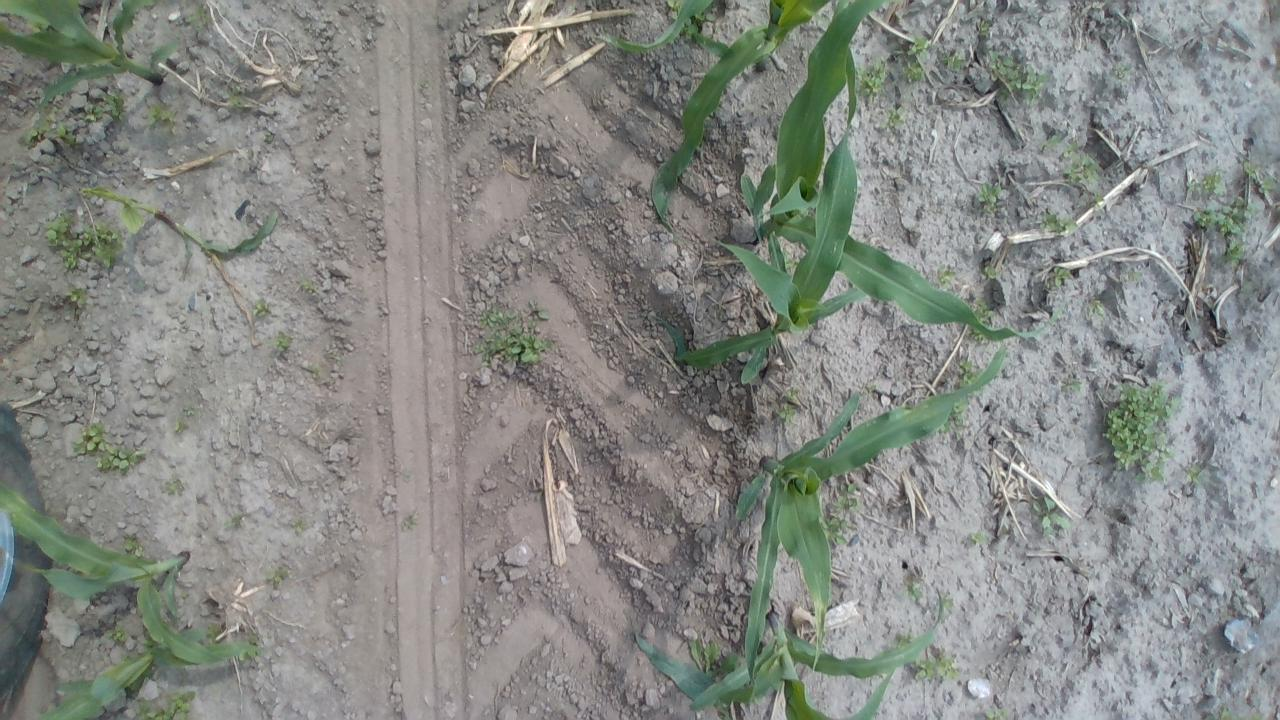Maize: (740, 0, 1067, 342), (733, 344, 1012, 689), (650, 0, 869, 382), (648, 0, 862, 257), (0, 480, 267, 668), (634, 581, 954, 720), (0, 0, 182, 111), (40, 624, 208, 720), (592, 0, 738, 63)
Weeds: (1101, 378, 1179, 485), (469, 302, 556, 374), (1190, 193, 1260, 261), (44, 216, 128, 272), (73, 422, 147, 474), (985, 50, 1046, 104), (129, 684, 201, 720), (22, 101, 72, 151), (1057, 144, 1104, 188), (898, 32, 932, 87), (1032, 494, 1073, 538), (854, 54, 891, 100), (910, 654, 964, 684), (81, 92, 129, 124), (821, 507, 853, 549), (1238, 160, 1276, 194), (1192, 168, 1230, 199), (1038, 210, 1078, 238), (974, 178, 1005, 213), (697, 638, 725, 676), (946, 399, 972, 434), (147, 103, 176, 134), (777, 391, 802, 426), (881, 103, 909, 132), (970, 295, 997, 323), (63, 284, 92, 310), (264, 560, 291, 587), (835, 482, 861, 510), (188, 4, 214, 31), (956, 356, 979, 386), (970, 12, 998, 36), (940, 50, 966, 74), (270, 332, 294, 358), (306, 357, 334, 379), (682, 14, 702, 44), (1110, 62, 1133, 88), (934, 264, 957, 288), (205, 620, 228, 643), (170, 413, 192, 437), (104, 622, 130, 642), (1184, 464, 1206, 487), (122, 535, 144, 558), (225, 510, 248, 532), (241, 633, 261, 658), (226, 86, 245, 112), (904, 574, 923, 600), (1084, 189, 1108, 209), (980, 704, 1011, 719), (1048, 266, 1069, 288), (400, 511, 421, 533), (162, 477, 185, 497), (966, 529, 990, 548), (250, 298, 270, 320), (893, 630, 915, 650), (1038, 131, 1062, 149), (238, 644, 262, 662), (1062, 376, 1084, 395), (938, 593, 955, 616), (1087, 296, 1105, 317), (300, 278, 320, 296), (981, 264, 1000, 282), (1212, 706, 1238, 719), (398, 466, 416, 484), (290, 517, 308, 534), (1122, 268, 1140, 284), (964, 328, 982, 343), (663, 1, 682, 12)
